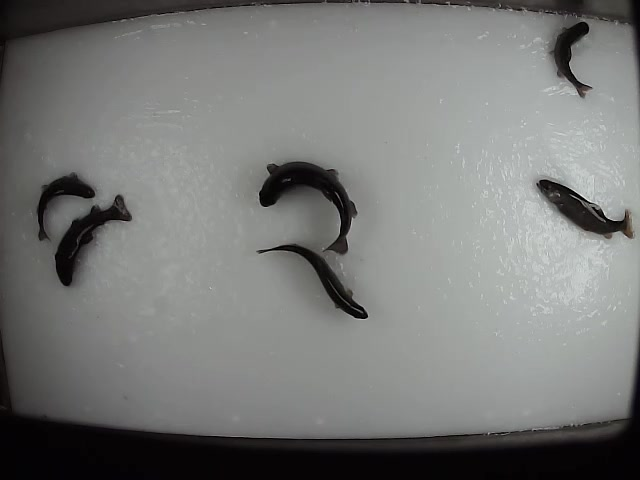fish: (253, 241, 372, 322), (53, 192, 134, 288), (535, 176, 636, 243), (34, 171, 95, 245), (550, 21, 594, 102)
